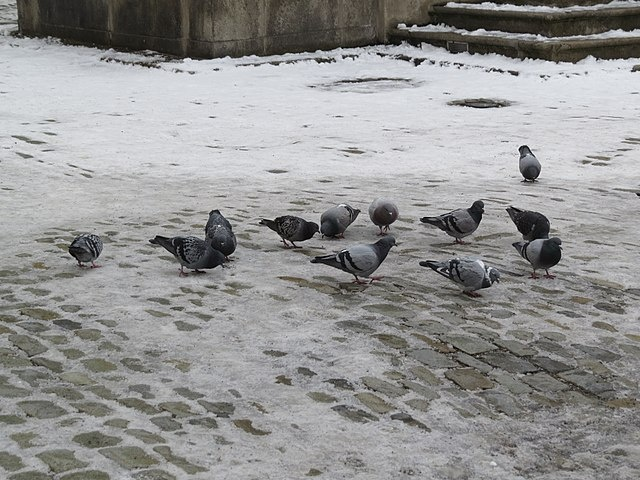Pigeon: (311, 233, 401, 288), (417, 258, 505, 300), (145, 234, 228, 275), (420, 200, 487, 246), (510, 236, 565, 281), (257, 214, 321, 250), (505, 204, 556, 245), (204, 207, 237, 261), (69, 229, 105, 273), (318, 202, 362, 238), (367, 193, 401, 236), (515, 144, 544, 183)
